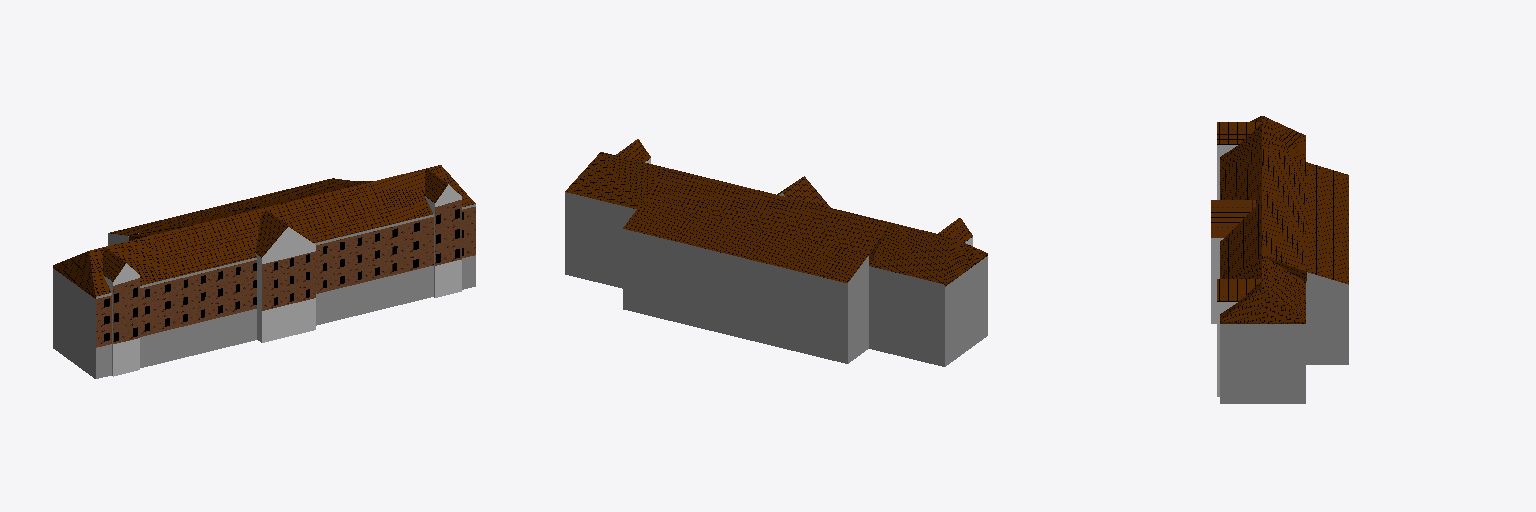
The picture shows the model from 3 angles: view 1: azimuth 30°, elevation 25°; view 2: azimuth 150°, elevation 25°; view 3: azimuth 270°, elevation 25°; orthographic projection.
Parts seen in each view (by area): view 1: Cube, Cube.001, Cube.003_Cube.002, Cube.002; view 2: Cube, Cube.001; view 3: Cube, Cube.001, Cube.003_Cube.002, Cube.002.
Boxes of the visible parts, x1=… form: Cube: x1=53, y1=165, x2=475, y2=378; Cube.001: x1=255, y1=210, x2=315, y2=342; Cube.003_Cube.002: x1=425, y1=168, x2=461, y2=297; Cube.002: x1=103, y1=247, x2=139, y2=376; Cube: x1=565, y1=152, x2=987, y2=366; Cube.001: x1=777, y1=176, x2=830, y2=207; Cube: x1=1220, y1=116, x2=1348, y2=403; Cube.001: x1=1211, y1=200, x2=1255, y2=323; Cube.003_Cube.002: x1=1217, y1=279, x2=1261, y2=396; Cube.002: x1=1217, y1=122, x2=1261, y2=199.
Bounding box in the file's own units: 19.54 × 5.42 × 6.12.
8 materials, 2 textured.